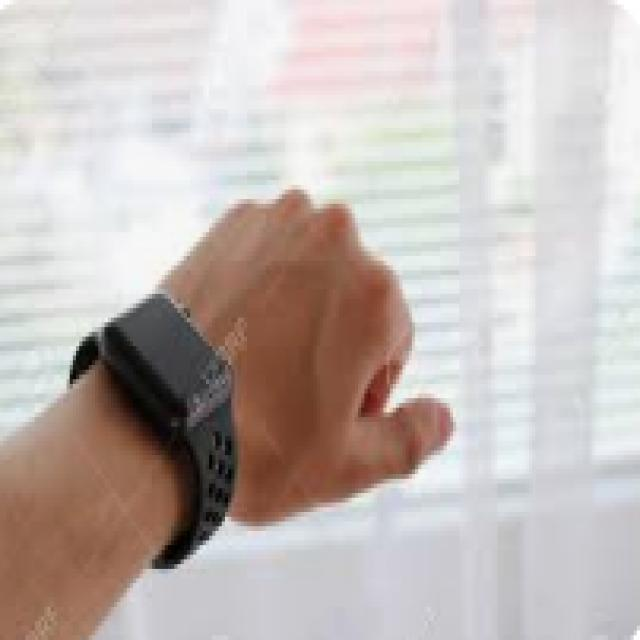Watch: (69, 288, 237, 566)
